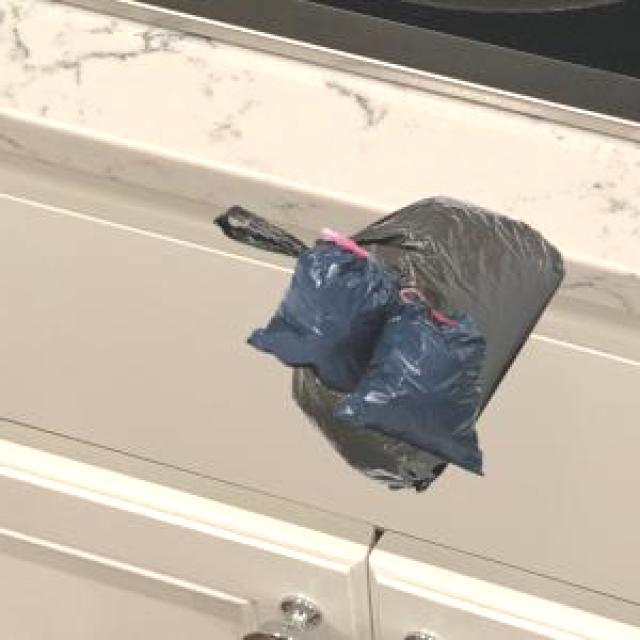Trashbag: (357, 311, 508, 467), (242, 248, 390, 386)
